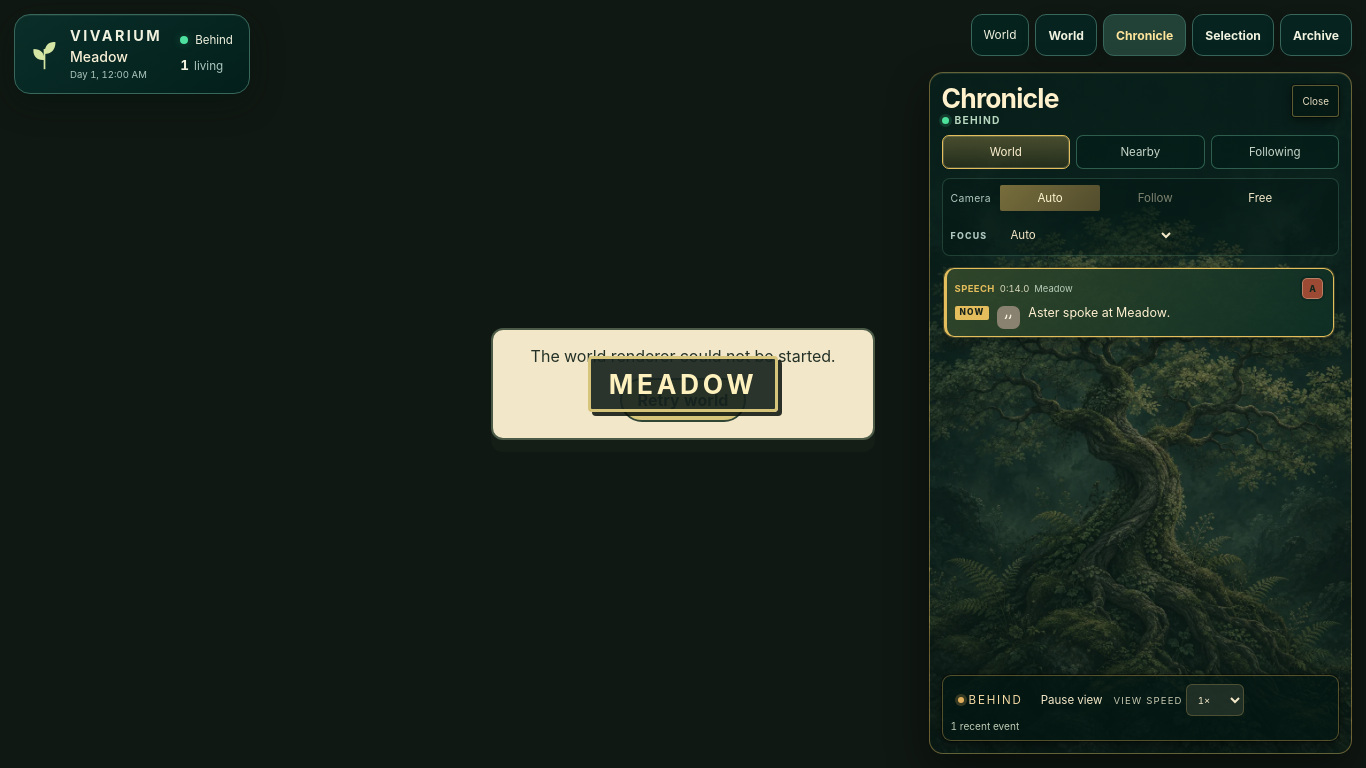
Scenario: Vivarium2DApp › yields the one visible narrative slot to active dialogue
Click the button "Close" at {"x": 1316, "y": 101}, box x1=1292 y1=85 x2=1339 y2=117
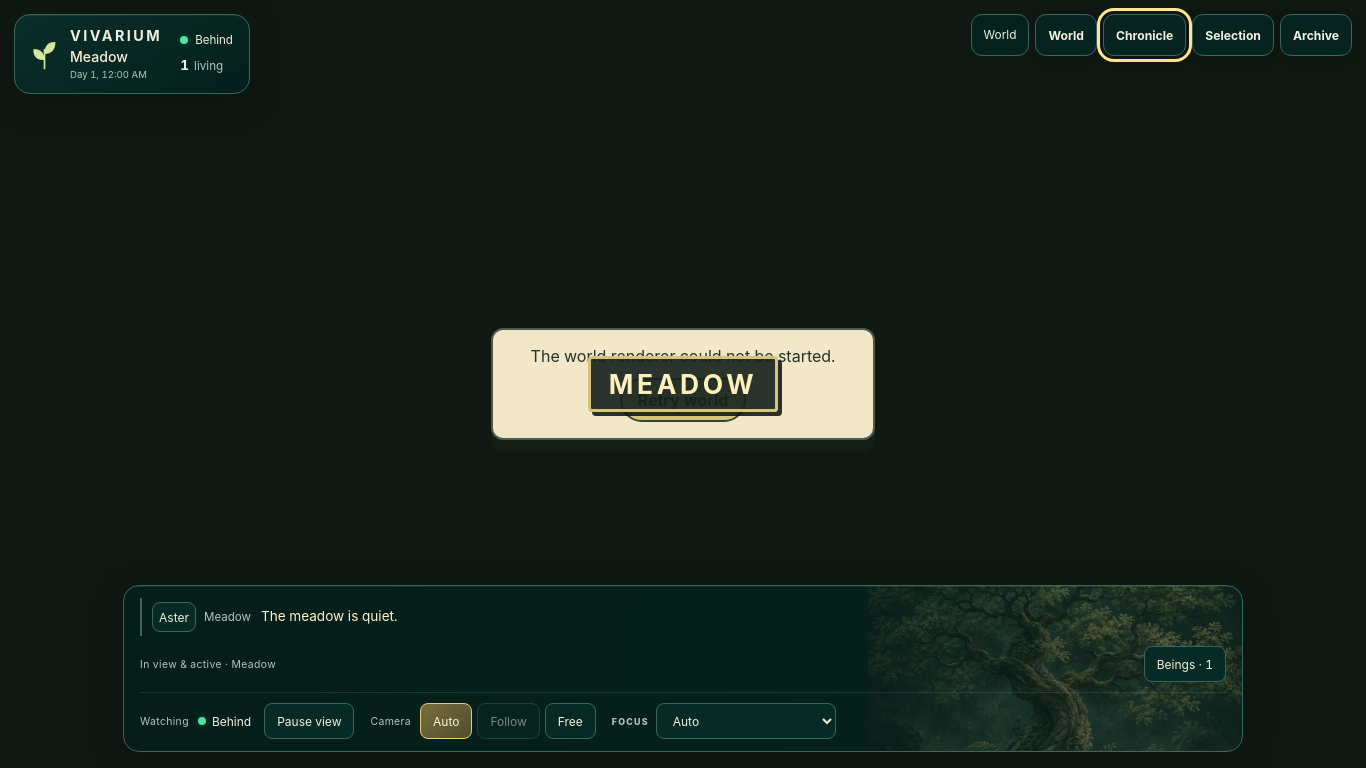
Now the element with class "dialogue-now" shows "The meadow is quiet.", box x1=261 y1=608 x2=398 y2=624
